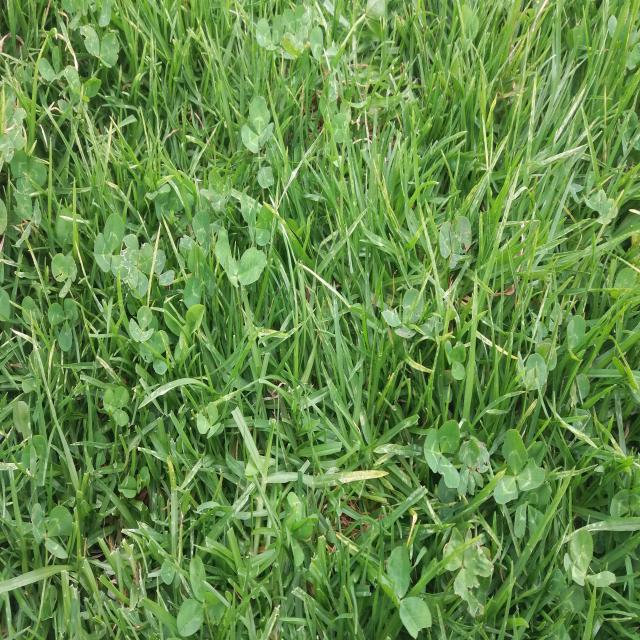Four Leaf Clover: (241, 185, 278, 246), (122, 233, 155, 299), (457, 439, 490, 496)
